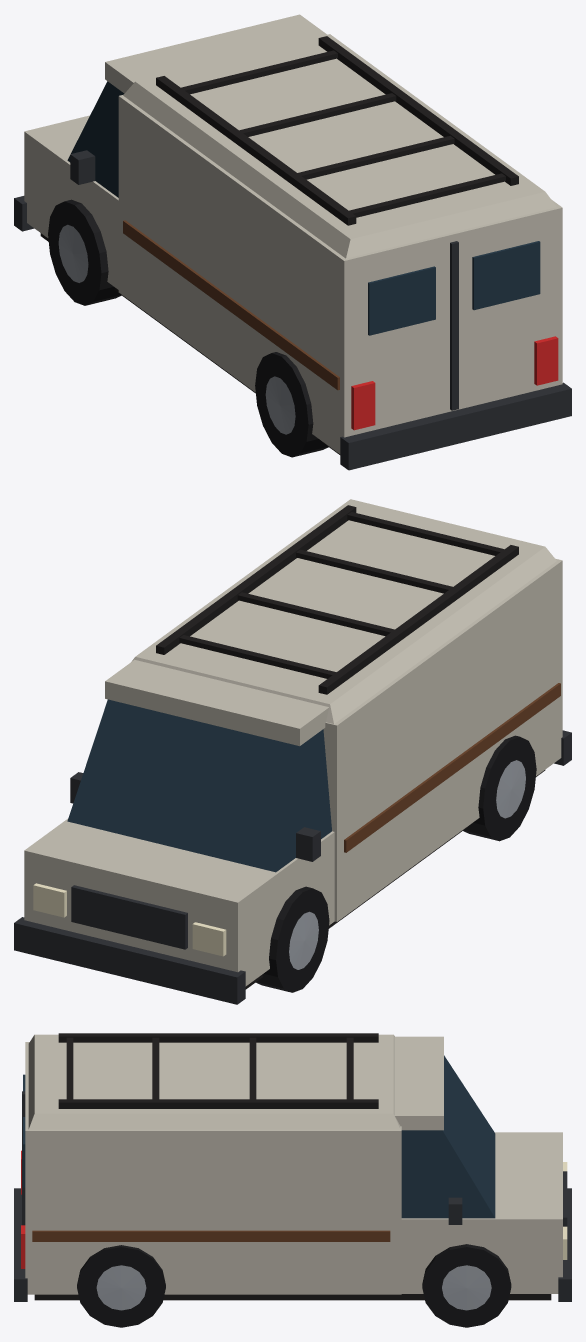
Rendered from abandoned_van.obj.
The picture shows the model from 3 angles, top to bottom: view 1: azimuth 30°, elevation 25°; view 2: azimuth 150°, elevation 25°; view 3: azimuth 270°, elevation 25°; orthographic projection. The views are drawn at different scales.
Bounding box in the file's own units: 2.04 × 2.06 × 4.88.
